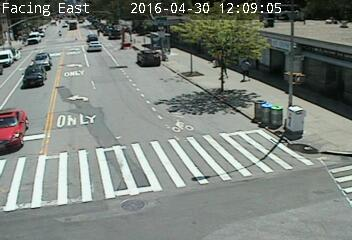neg: (34, 52, 62, 90), (7, 41, 26, 66), (69, 68, 87, 92), (175, 62, 188, 80), (158, 63, 171, 80), (104, 93, 115, 109), (115, 56, 126, 71), (95, 66, 106, 80), (130, 54, 141, 68)
pos: (233, 55, 254, 83), (94, 25, 102, 35), (55, 28, 61, 36)
